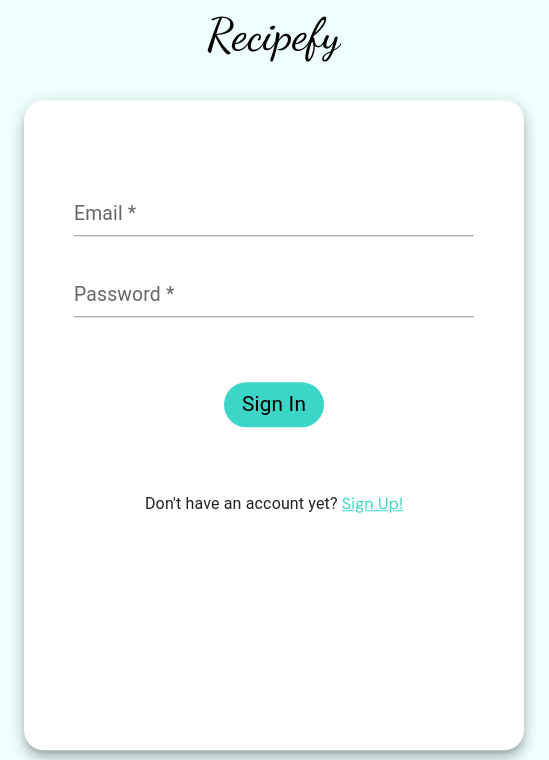
Auth forms tests › SignInForm tests › throws validation errors when invalid inputs are passed
Type "invalidemail" into the field labelled "Email *" at (274, 216), box [74, 196, 474, 236]
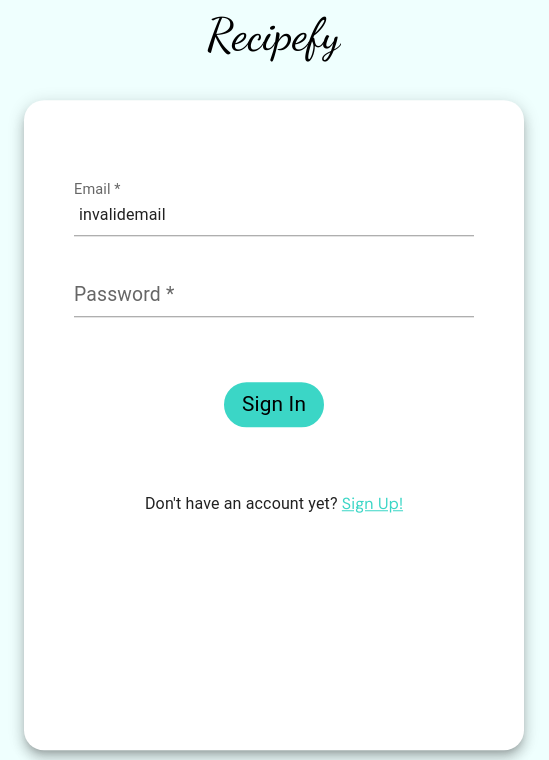
Type "weakpass" into the password field labelled "Password *" at (274, 297), box [74, 277, 474, 317]
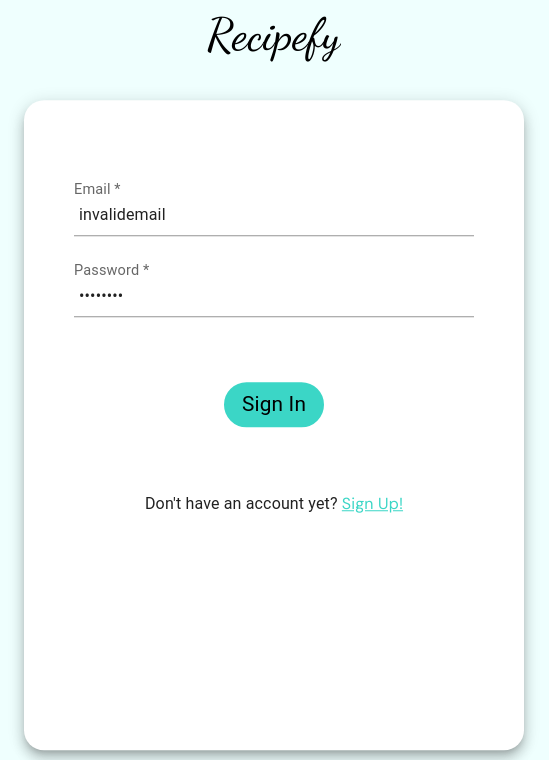
Click the text "Sign In" at (274, 404), box [224, 382, 324, 427]
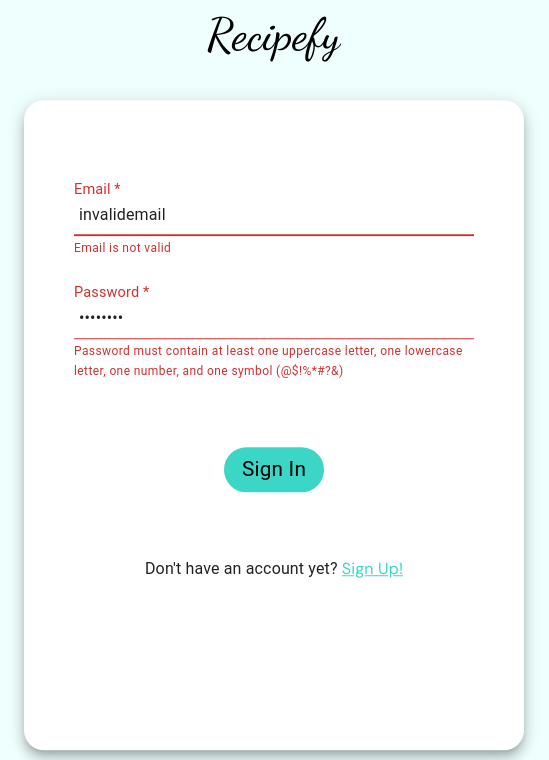
Result: the text "Email is not valid" is shown at [74, 241, 171, 255]
